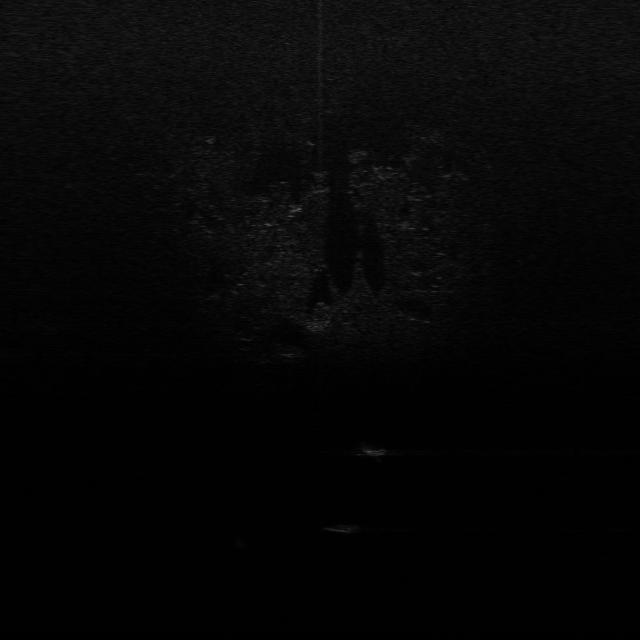cube: (324, 516, 360, 536)
square cage: (357, 438, 387, 460)
